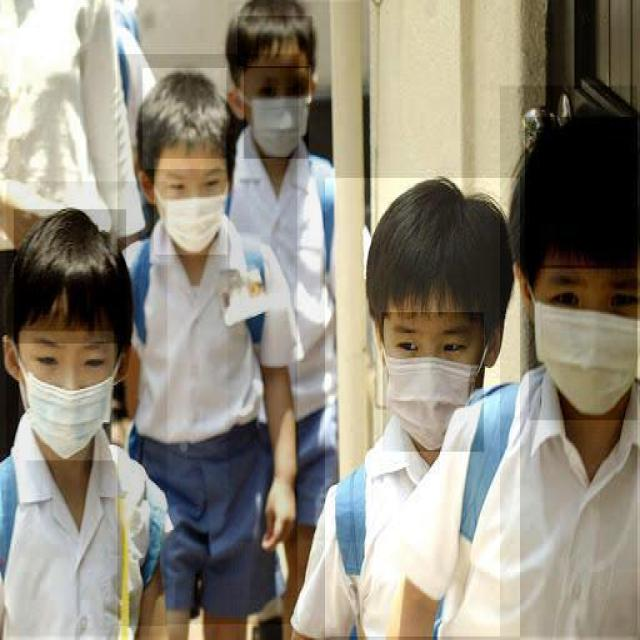face_mask: (529, 265, 639, 420), (382, 312, 483, 452), (18, 332, 114, 461), (154, 158, 228, 254), (244, 66, 310, 160)
hand_noglove: (256, 465, 304, 557)
head_nohelmet: (525, 117, 639, 268), (365, 206, 491, 328), (14, 209, 126, 344), (142, 68, 228, 171), (238, 16, 314, 68)
person: (118, 54, 298, 626), (325, 178, 521, 638), (500, 86, 639, 638), (6, 182, 169, 638), (228, 2, 364, 542)
